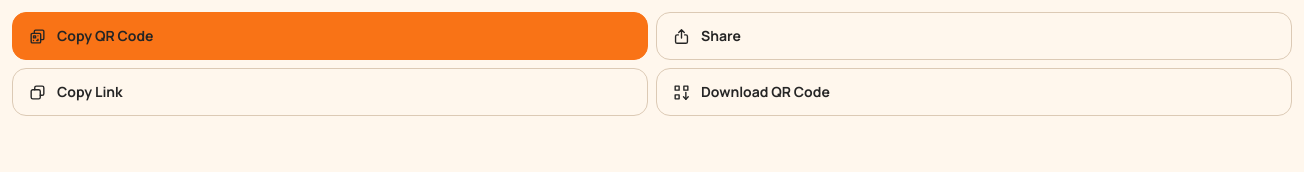
Test: QR actions › copies the complete link
Click the button with test id "copy-link" at (90, 92), box [12, 68, 648, 116]
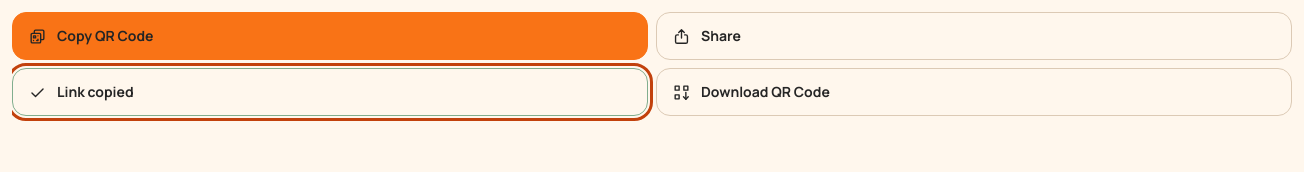
expect the button with test id "copy-link" reads "Link copied": met, box [12, 68, 648, 116]
